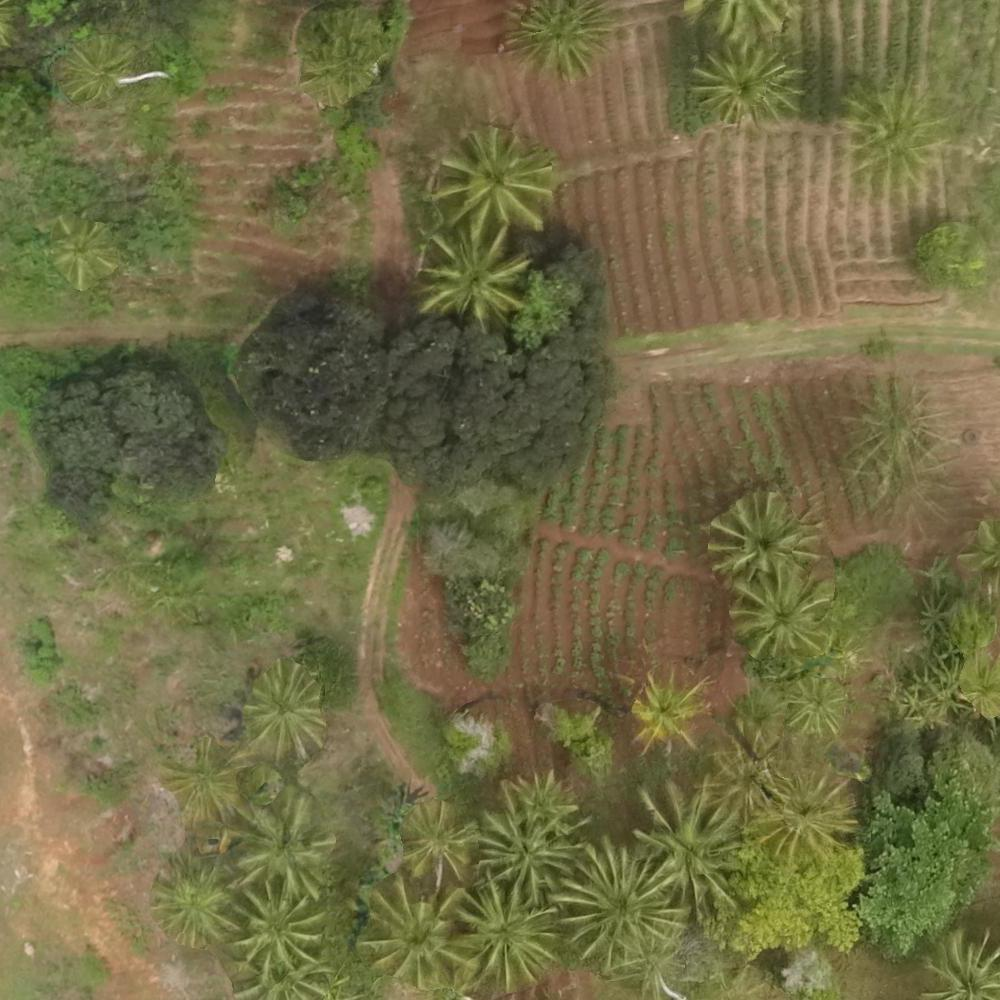Palm: (631, 783, 755, 913), (558, 841, 676, 968), (362, 879, 476, 985), (833, 83, 940, 193), (443, 127, 555, 230), (458, 878, 562, 988), (714, 492, 820, 583), (425, 229, 527, 321), (750, 765, 854, 855), (479, 794, 577, 889), (690, 41, 797, 128), (241, 794, 333, 894), (507, 1, 615, 86), (728, 573, 828, 660), (233, 888, 330, 972), (246, 666, 324, 757), (152, 862, 237, 941), (165, 743, 244, 823), (625, 668, 701, 750), (398, 806, 470, 877), (46, 218, 113, 288), (60, 36, 129, 100), (786, 675, 846, 731)
